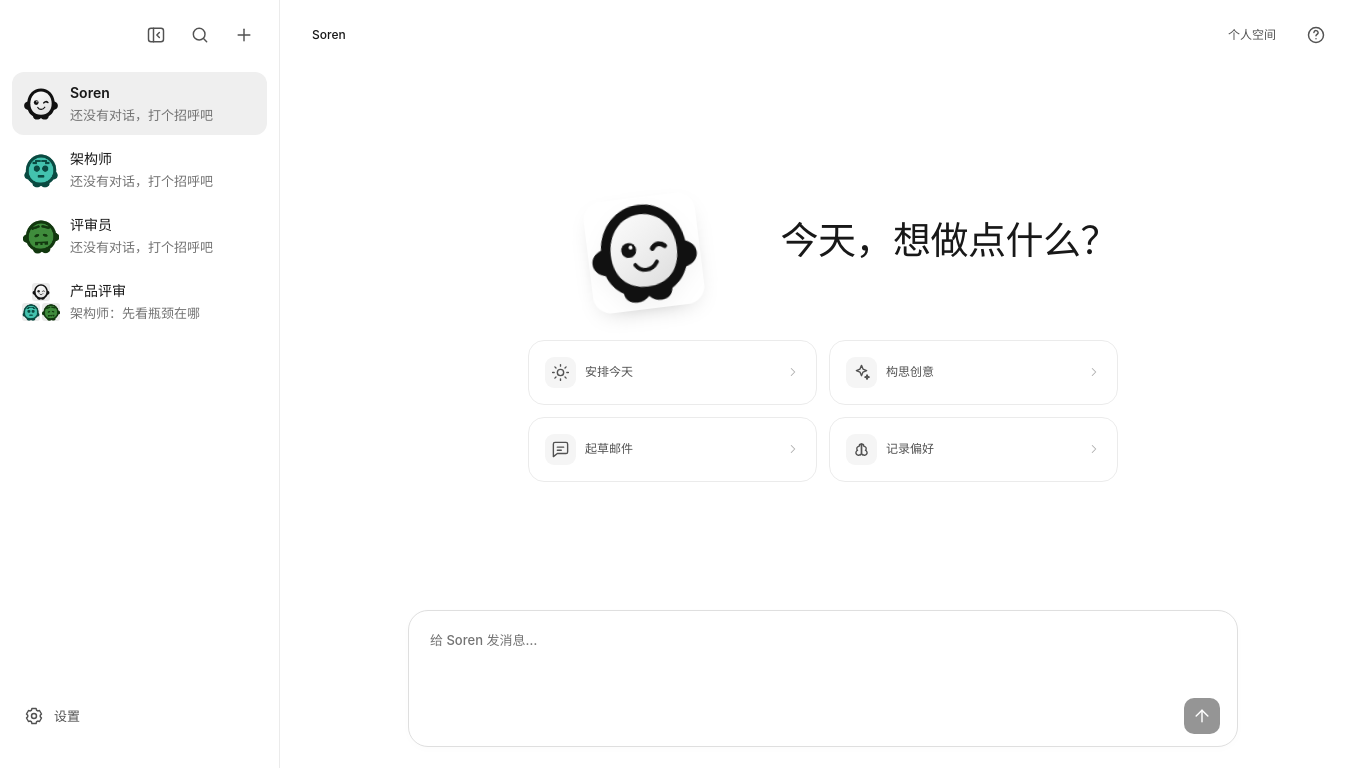
群聊发言人解析 › 多条不同发言者的消息逐条渲染各自的头像与名称
Click the button "产品评审 架构师：先看瓶颈在哪" at [140, 302], box [12, 270, 267, 333]
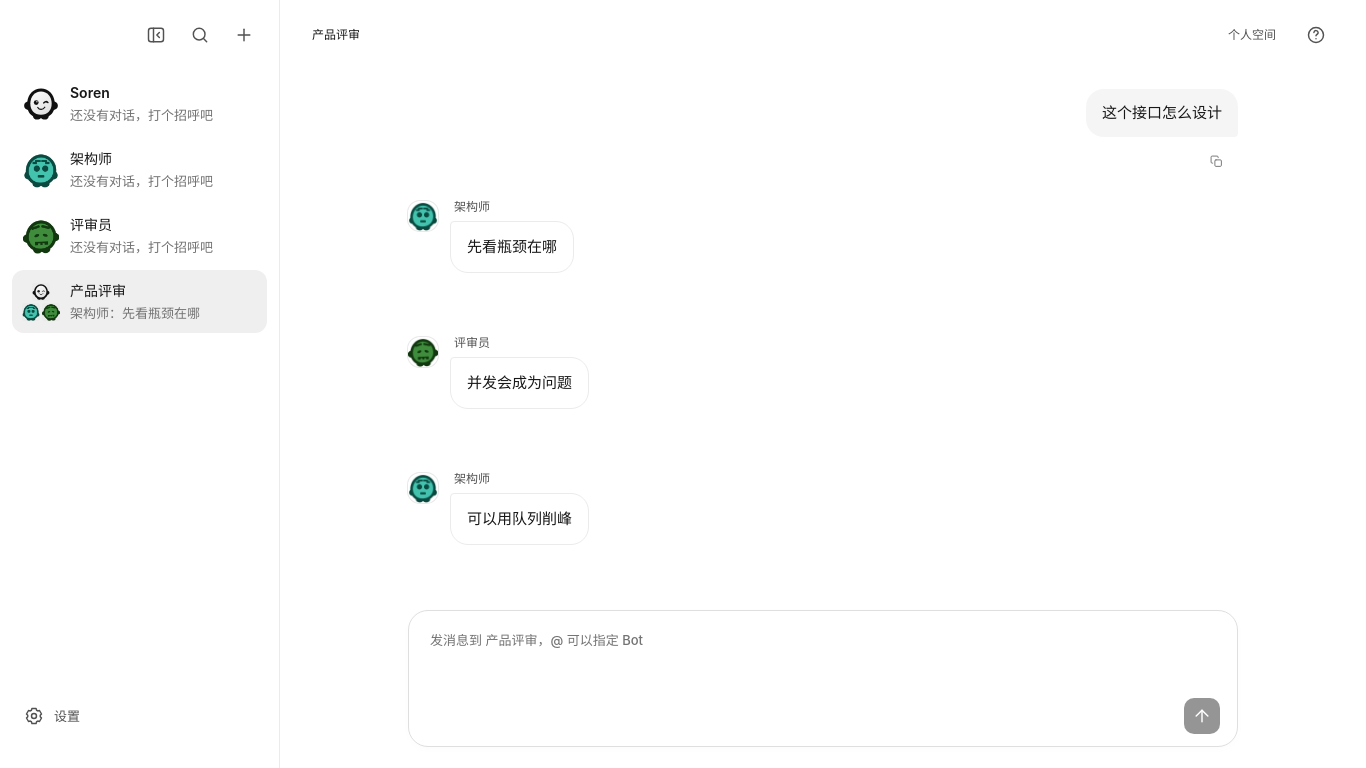
Result: the text "可以用队列削峰" is shown at [467, 506, 572, 532]
Result: the 2nd text "架构师" is shown at [454, 199, 490, 214]
Result: the 2nd text "评审员" is shown at [454, 335, 490, 350]
